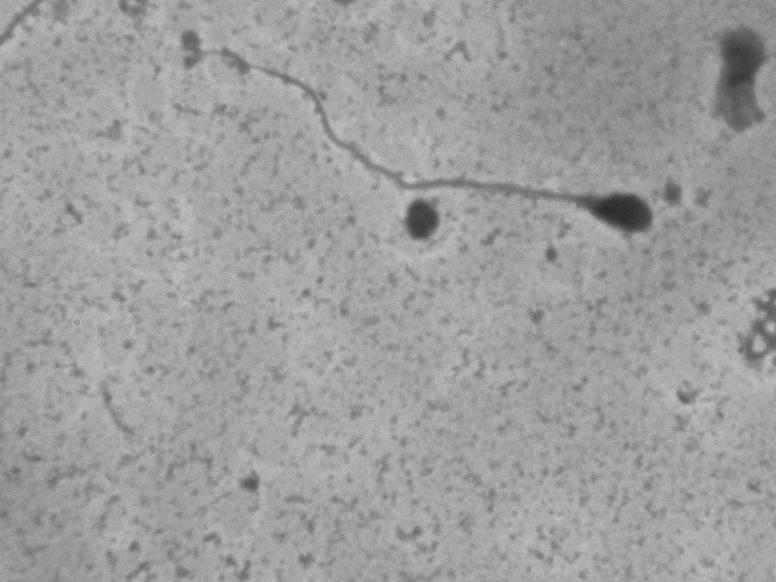Abnormal: (470, 119, 671, 265)
